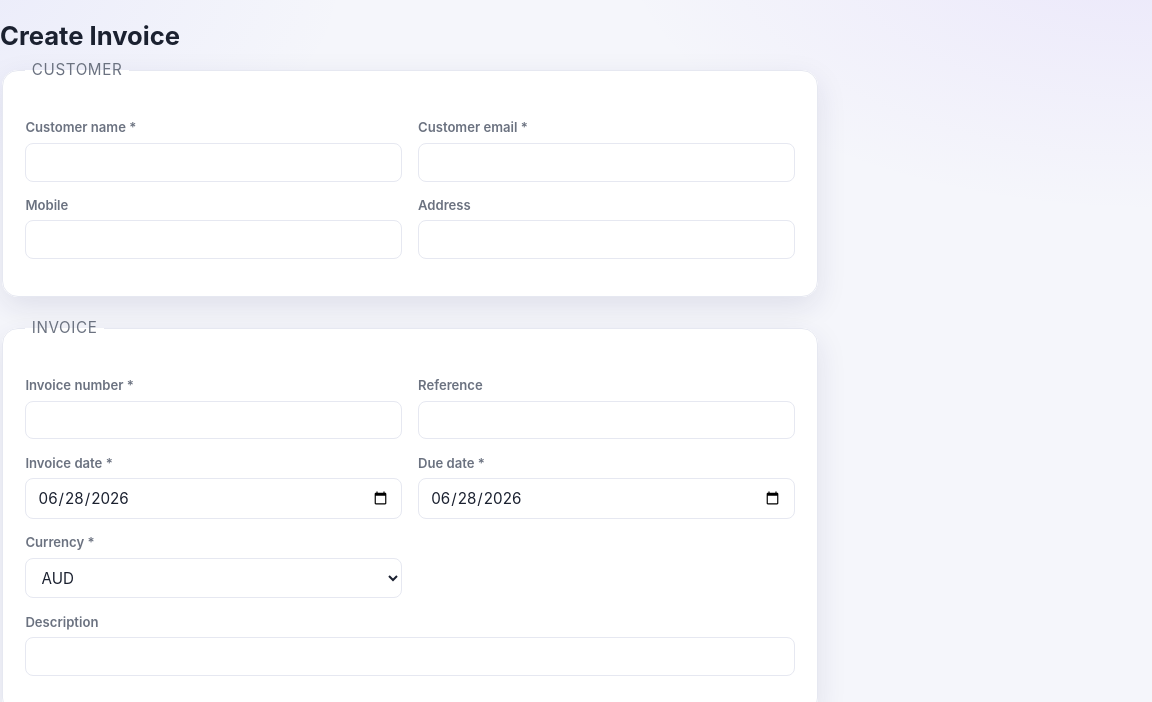
Test: CreateInvoicePage › submits valid data with defaults, then navigates home and toasts success
Type "Globex" into the field labelled "Customer name *". click: {"x": 214, "y": 162}
box: x1=25 y1=143 x2=402 y2=182
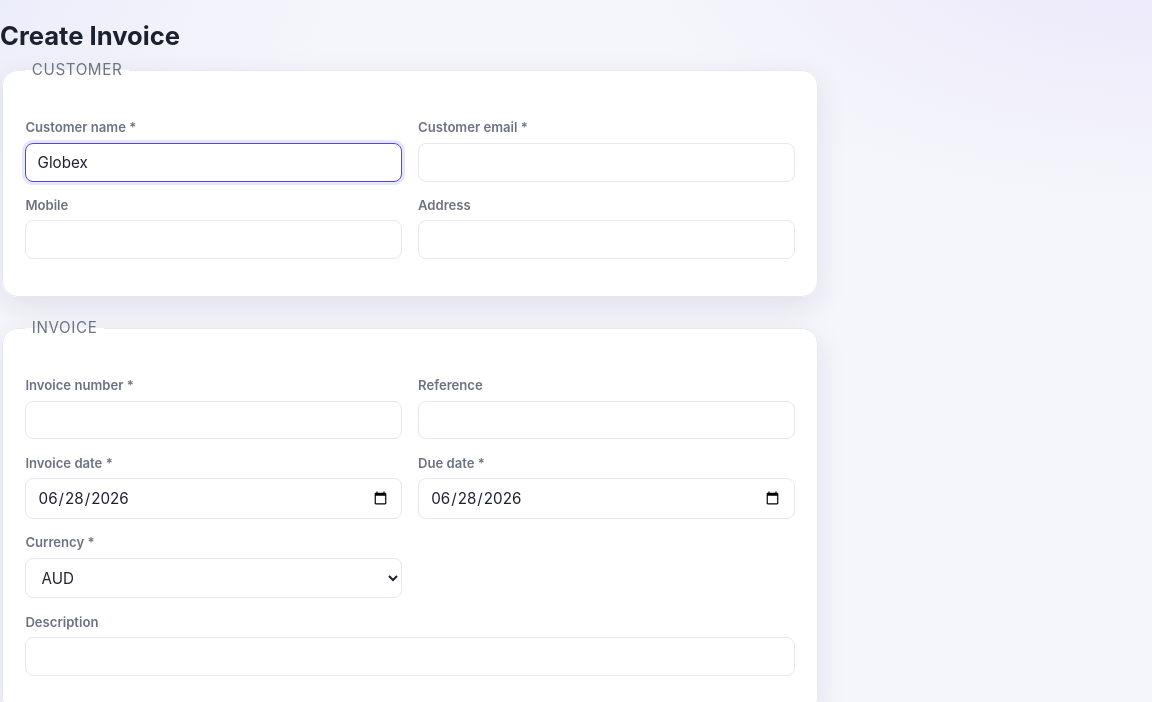
Type "billing@globex.com" into the field labelled "Customer email *". click: {"x": 606, "y": 162}
box: x1=418 y1=143 x2=795 y2=182
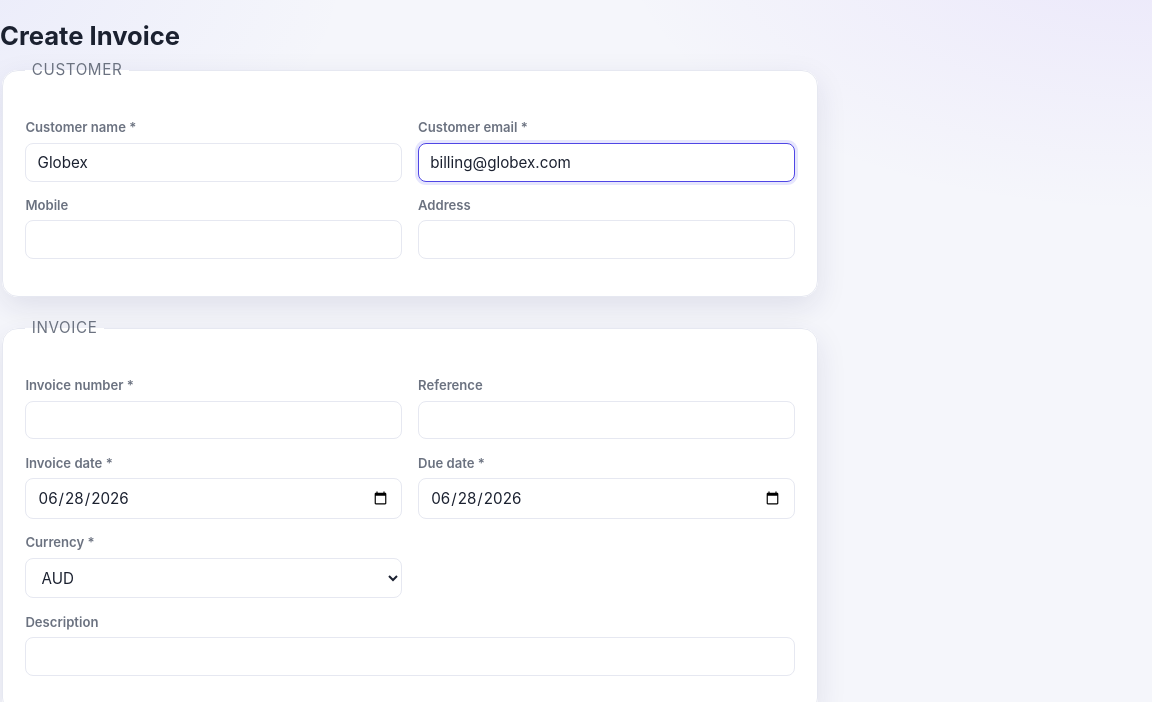
Type "INV-T-1" into the field labelled "Invoice number *". click: {"x": 214, "y": 420}
box: x1=25 y1=401 x2=402 y2=440
(page scrolled)
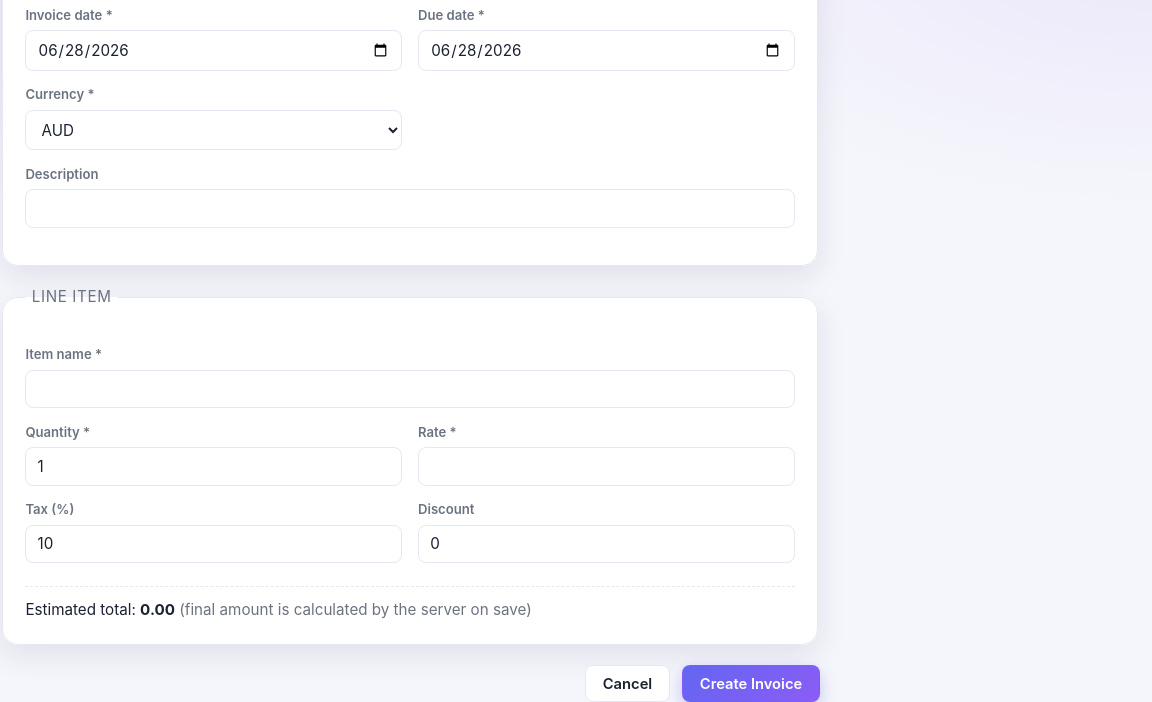
Type "Widget" into the field labelled "Item name *". click: {"x": 410, "y": 389}
box: x1=25 y1=370 x2=795 y2=408
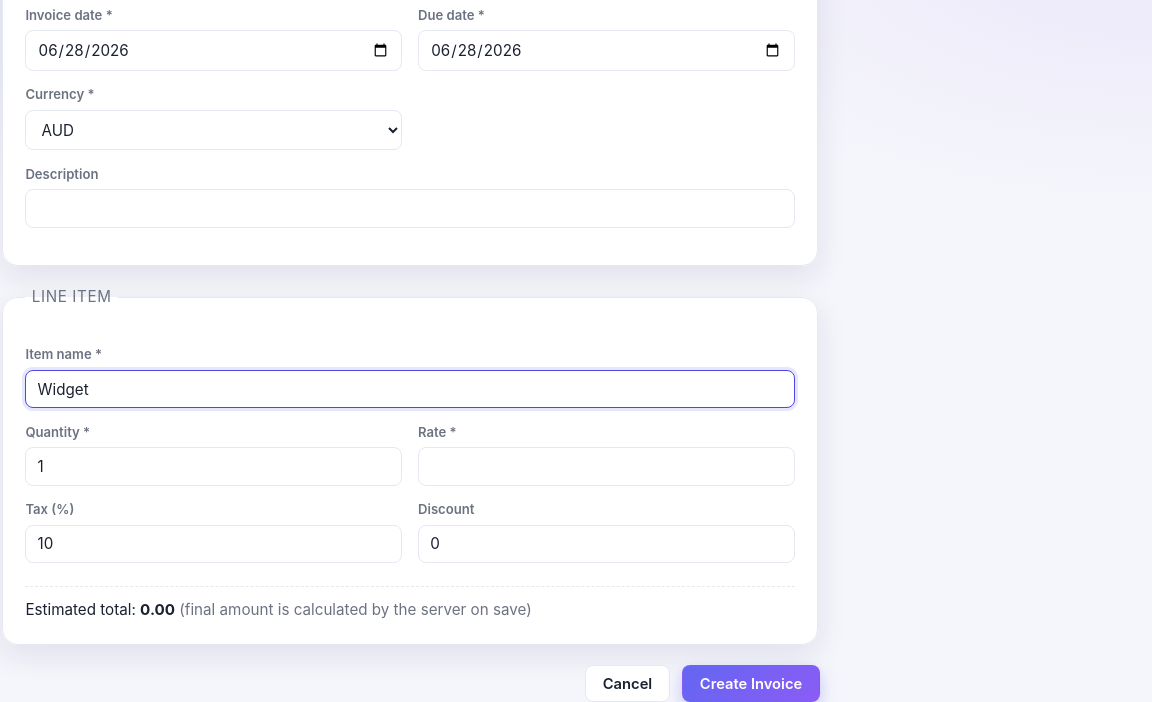
Type "500" into the number field labelled "Rate *". click: {"x": 606, "y": 466}
box: x1=418 y1=447 x2=795 y2=486
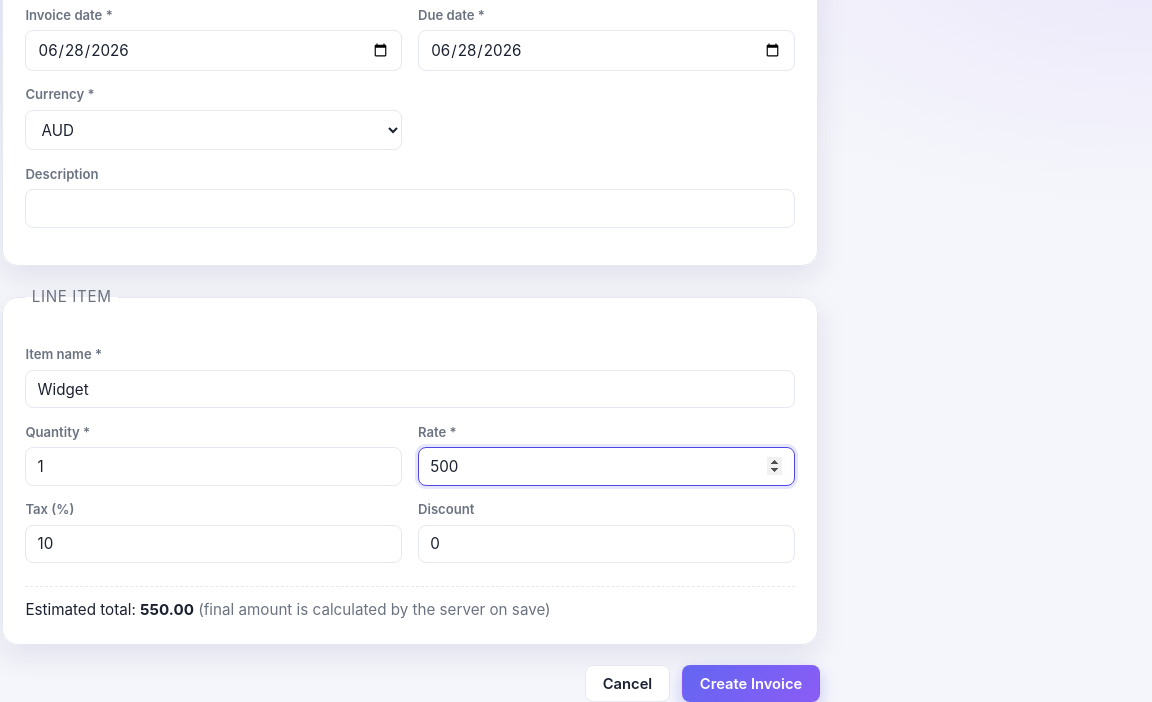
Click the button "Create Invoice". click: {"x": 751, "y": 684}
box: x1=682 y1=665 x2=820 y2=701
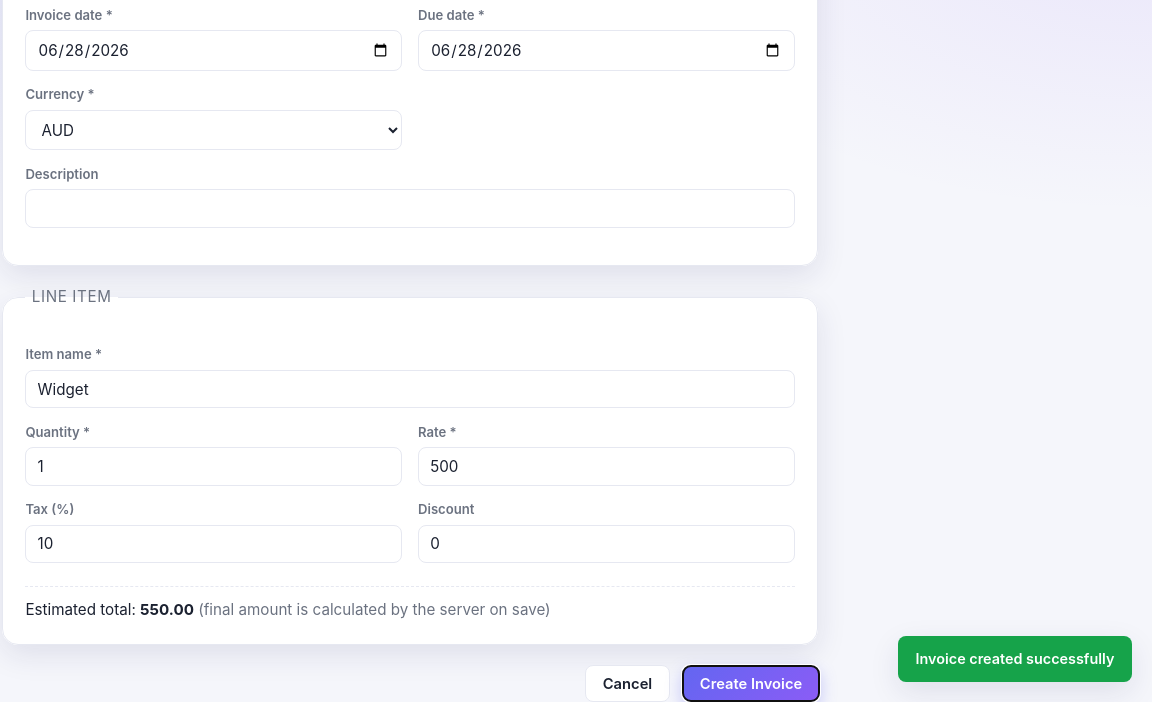
Expected: the text "Invoice created successfully" is shown, x1=898 y1=636 x2=1132 y2=682
